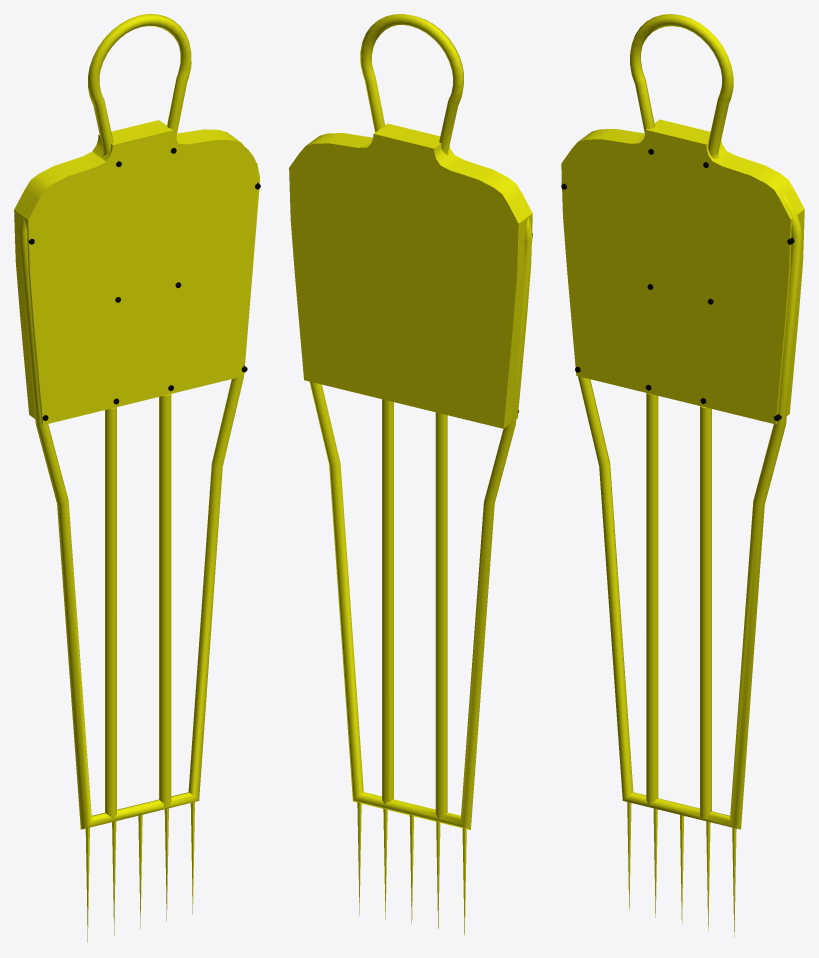
The model's file is L3_dummy_A_merged.fbx.
3 renders of one model, left to right at view 1: azimuth 30°, elevation 25°; view 2: azimuth 150°, elevation 25°; view 3: azimuth 330°, elevation 25°, orthographic.
Visible parts, largest first — view 1: L3_dummy_A_merged; view 2: L3_dummy_A_merged; view 3: L3_dummy_A_merged.
Part boxes in pixels (x1=…): L3_dummy_A_merged: x1=14, y1=14, x2=260, y2=942; L3_dummy_A_merged: x1=289, y1=14, x2=532, y2=935; L3_dummy_A_merged: x1=561, y1=14, x2=804, y2=937.
Bounding box in the file's own units: 57.51 × 209 × 6.17.
